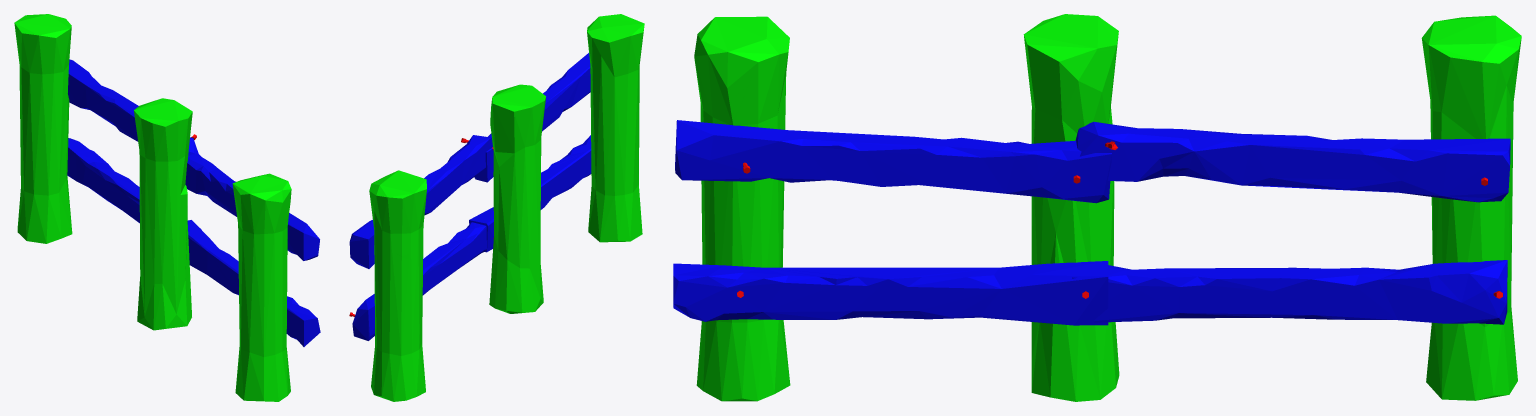
3 renders of one model, left to right at view 1: azimuth 30°, elevation 25°; view 2: azimuth 150°, elevation 25°; view 3: azimuth 270°, elevation 25°, orthographic. The views are drawn at different scales.
Parts seen in each view (by area): view 1: defaultMaterial (×2); view 2: defaultMaterial (×2); view 3: defaultMaterial (×2).
Boxes of the visible parts, left/top/right/bottom form: defaultMaterial (×2): left=14, top=14, right=320, bottom=401; defaultMaterial (×2): left=349, top=14, right=644, bottom=401; defaultMaterial (×2): left=673, top=14, right=1521, bottom=401.
Bounding box in the file's own units: 0.9011 × 2.58 × 5.65.
